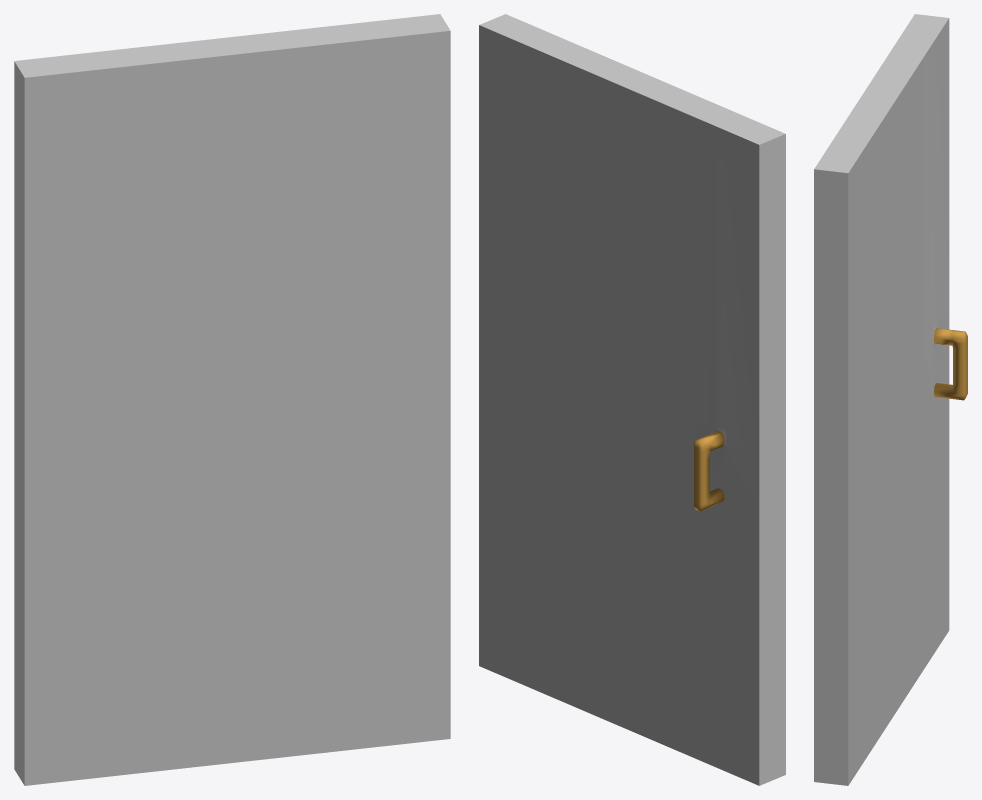
Rendered from simple_door.fbx.
3 renders of one model, left to right at view 1: azimuth 30°, elevation 25°; view 2: azimuth 150°, elevation 25°; view 3: azimuth 270°, elevation 25°, orthographic. The views are drawn at different scales.
Parts seen in each view (by area): view 1: Cube; view 2: Cube; view 3: Cube.
Boxes of the visible parts, box(x1,y1,x2,y2) form: Cube: box(14, 14, 450, 785); Cube: box(479, 14, 785, 785); Cube: box(814, 14, 967, 785).
Size of the model in its own units: 1.11 by 2 by 0.4553.
